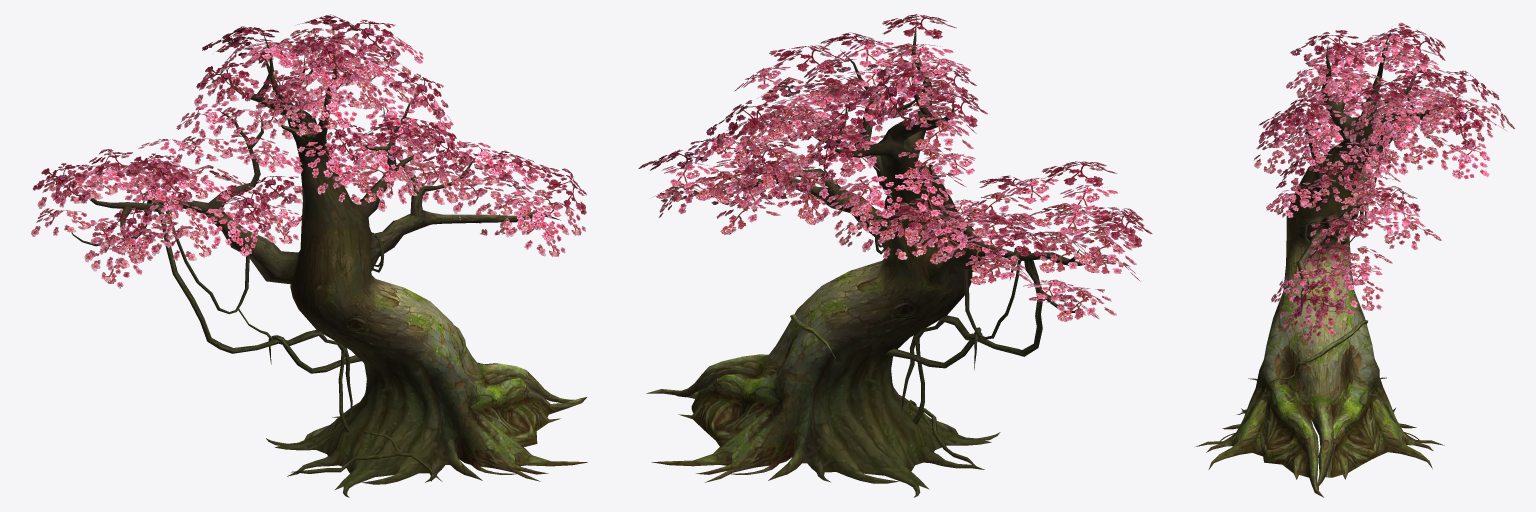
Rendered from S_Tree_Red040.FBX.
3 renders of one model, left to right at view 1: azimuth 30°, elevation 25°; view 2: azimuth 150°, elevation 25°; view 3: azimuth 270°, elevation 25°, orthographic. The views are drawn at different scales.
Parts seen in each view (by area): view 1: S_Tree_Red040; view 2: S_Tree_Red040; view 3: S_Tree_Red040.
Boxes of the visible parts, bbox=[...] form: S_Tree_Red040: bbox=[31, 14, 587, 497]; S_Tree_Red040: bbox=[638, 14, 1152, 497]; S_Tree_Red040: bbox=[1195, 22, 1514, 497].
Size of the model in its own units: 360 by 270 by 226.
